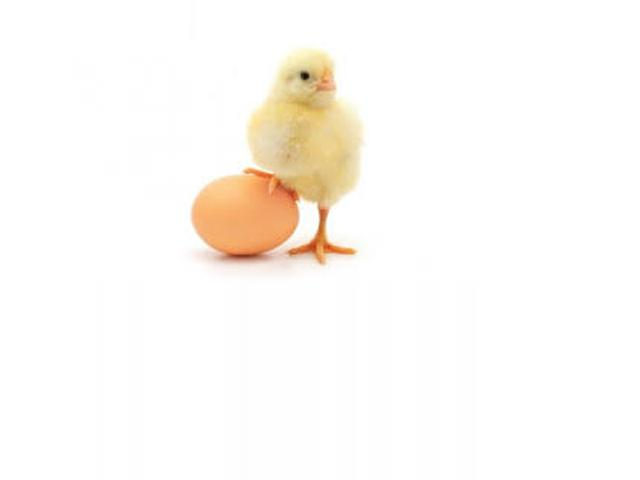egg: (190, 171, 301, 255)
